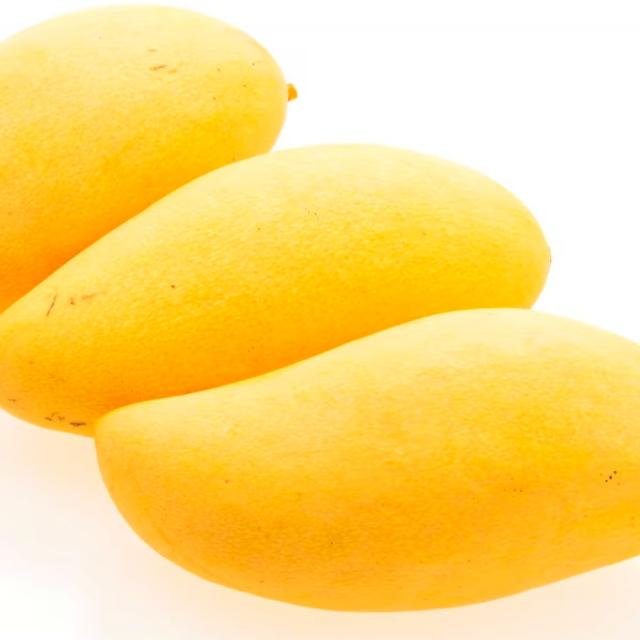mango: (93, 305, 640, 614), (0, 137, 549, 438), (0, 1, 298, 323)
